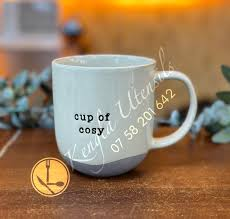mug: (39, 45, 203, 183)
